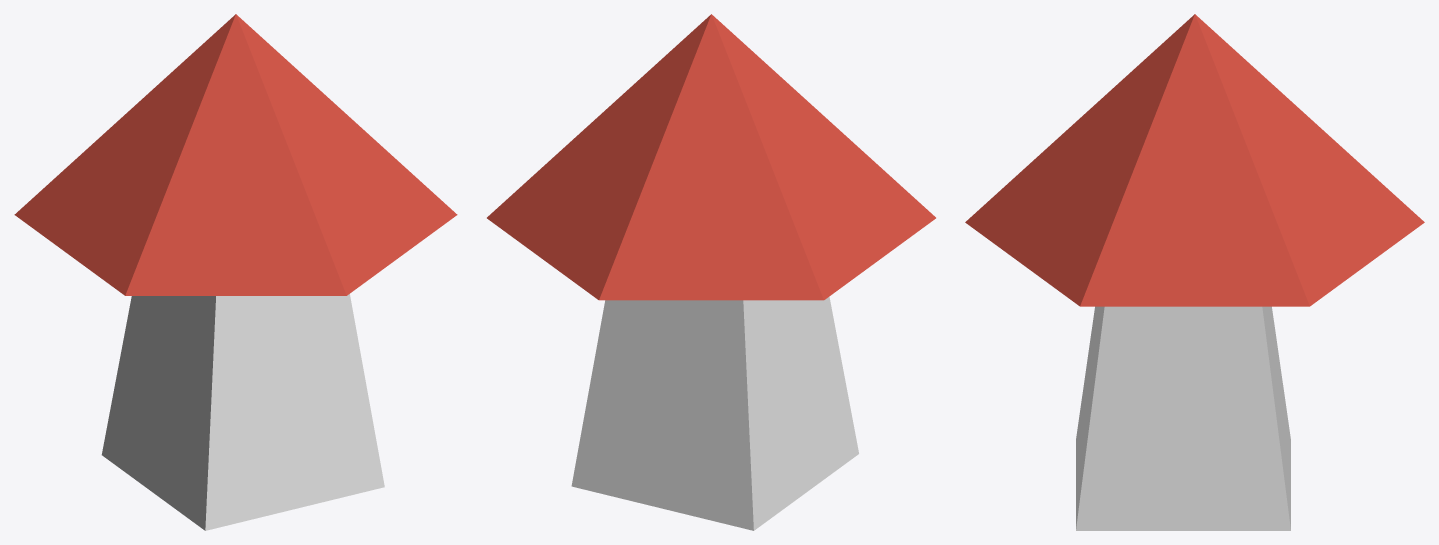
File: naturePack_111.fbx
The picture shows the model from 3 angles, left to right: view 1: azimuth 30°, elevation 25°; view 2: azimuth 150°, elevation 25°; view 3: azimuth 270°, elevation 25°; orthographic projection. The views are drawn at different scales.
Visible parts, largest first — view 1: Mesh1_Mushroom_Red Model; view 2: Mesh1_Mushroom_Red Model; view 3: Mesh1_Mushroom_Red Model.
Boxes of the visible parts, <box> form: Mesh1_Mushroom_Red Model: <box>14,14,457,530</box>; Mesh1_Mushroom_Red Model: <box>487,14,935,530</box>; Mesh1_Mushroom_Red Model: <box>965,14,1424,530</box>.
Bounding box in the file's own units: 0.4349 × 0.567 × 0.5022.
